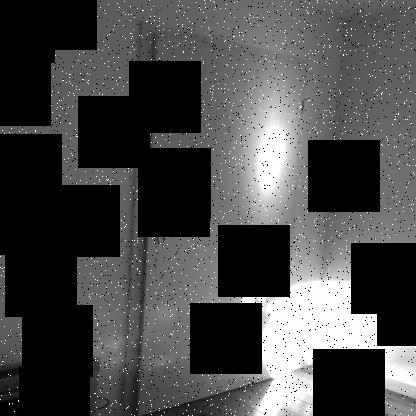Porte: (123, 21, 309, 416)
